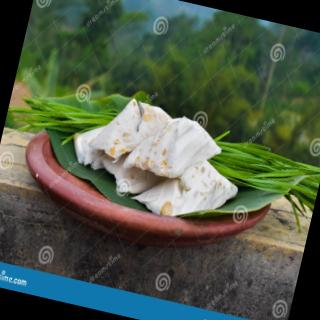Tempe: (128, 144, 244, 232), (123, 105, 228, 190), (87, 91, 175, 174)
